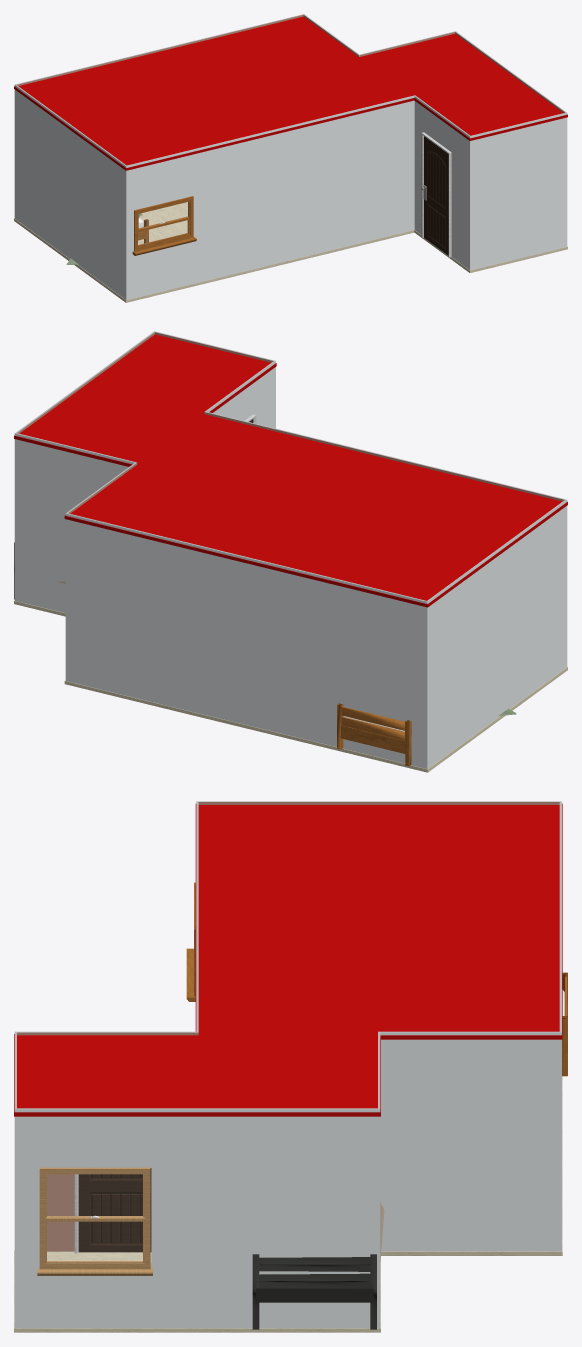
Rendered from ProcTHOR-Train-176.glb.
3 views of the same model, one above another, from view 1: azimuth 30°, elevation 25°; view 2: azimuth 150°, elevation 25°; view 3: azimuth 270°, elevation 25° (orthographic). The views are drawn at different scales.
Visible parts, largest first — view 1: Ceiling#room|2|c, WallInside#wall|exterior|2.00|3.99|7.99|3.99, WallInside#wall|exterior|7.99|0.00|7.99|3.99, WallInside#wall|exterior|0.00|5.99|2.00|5.99, WallInside#wall|exterior|2.00|3.99|2.00|5.99, Doorway_9, Floor#room|2|f, Window_Hung_48x32, WallInside#wall|2|2.00|0.00|7.99|0.00; view 2: Ceiling#room|2|c, WallInside#wall|exterior|2.00|0.00|7.99|0.00, WallInside#wall|exterior|7.99|0.00|7.99|3.99, WallInside#wall|exterior|0.00|2.00|2.00|2.00, Bed_26_2, Floor#room|2|f, WallInside#wall|exterior|2.00|3.99|2.00|5.99, WallInside#wall|2|2.00|3.99|7.99|3.99; view 3: Ceiling#room|2|c, WallInside#wall|exterior|0.00|2.00|0.00|5.99, WallInside#wall|exterior|2.00|0.00|2.00|2.00, Bed_7, Doorway_9, Window_Hung_48x44, Floor#room|2|f, WallInside#wall|2|2.00|3.99|2.00|5.99, WallInside#wall|2|7.99|0.00|7.99|3.99, Window_Hung_48x32.
Boxes of the visible parts, bbox=[...] form: Ceiling#room|2|c: bbox=[14, 16, 567, 170]; WallInside#wall|exterior|2.00|3.99|7.99|3.99: bbox=[126, 95, 414, 299]; WallInside#wall|exterior|7.99|0.00|7.99|3.99: bbox=[14, 84, 126, 299]; WallInside#wall|exterior|0.00|5.99|2.00|5.99: bbox=[470, 112, 567, 270]; WallInside#wall|exterior|2.00|3.99|2.00|5.99: bbox=[414, 95, 470, 269]; Doorway_9: bbox=[421, 132, 451, 257]; Floor#room|2|f: bbox=[14, 202, 567, 302]; Window_Hung_48x32: bbox=[132, 196, 196, 255]; WallInside#wall|2|2.00|0.00|7.99|0.00: bbox=[16, 14, 304, 85]; Ceiling#room|2|c: bbox=[14, 334, 567, 607]; WallInside#wall|exterior|2.00|0.00|7.99|0.00: bbox=[65, 513, 427, 769]; WallInside#wall|exterior|7.99|0.00|7.99|3.99: bbox=[427, 500, 567, 768]; WallInside#wall|exterior|0.00|2.00|2.00|2.00: bbox=[15, 433, 136, 612]; Bed_26_2: bbox=[337, 703, 516, 766]; Floor#room|2|f: bbox=[14, 600, 567, 772]; WallInside#wall|exterior|2.00|3.99|2.00|5.99: bbox=[205, 361, 275, 428]; WallInside#wall|2|2.00|3.99|7.99|3.99: bbox=[204, 412, 564, 501]; Ceiling#room|2|c: bbox=[14, 803, 562, 1116]; WallInside#wall|exterior|0.00|2.00|0.00|5.99: bbox=[15, 1108, 380, 1328]; WallInside#wall|exterior|2.00|0.00|2.00|2.00: bbox=[379, 1032, 561, 1251]; Bed_7: bbox=[252, 1202, 384, 1329]; Doorway_9: bbox=[74, 1168, 151, 1253]; Window_Hung_48x44: bbox=[37, 1167, 152, 1275]; Floor#room|2|f: bbox=[14, 1076, 562, 1332]; WallInside#wall|2|2.00|3.99|2.00|5.99: bbox=[15, 1032, 198, 1251]; WallInside#wall|2|7.99|0.00|7.99|3.99: bbox=[198, 801, 561, 804]; Window_Hung_48x32: bbox=[186, 882, 195, 1001].
Size of the model in its own units: 8.32 by 2.71 by 6.09.
86 materials, 27 textured.
